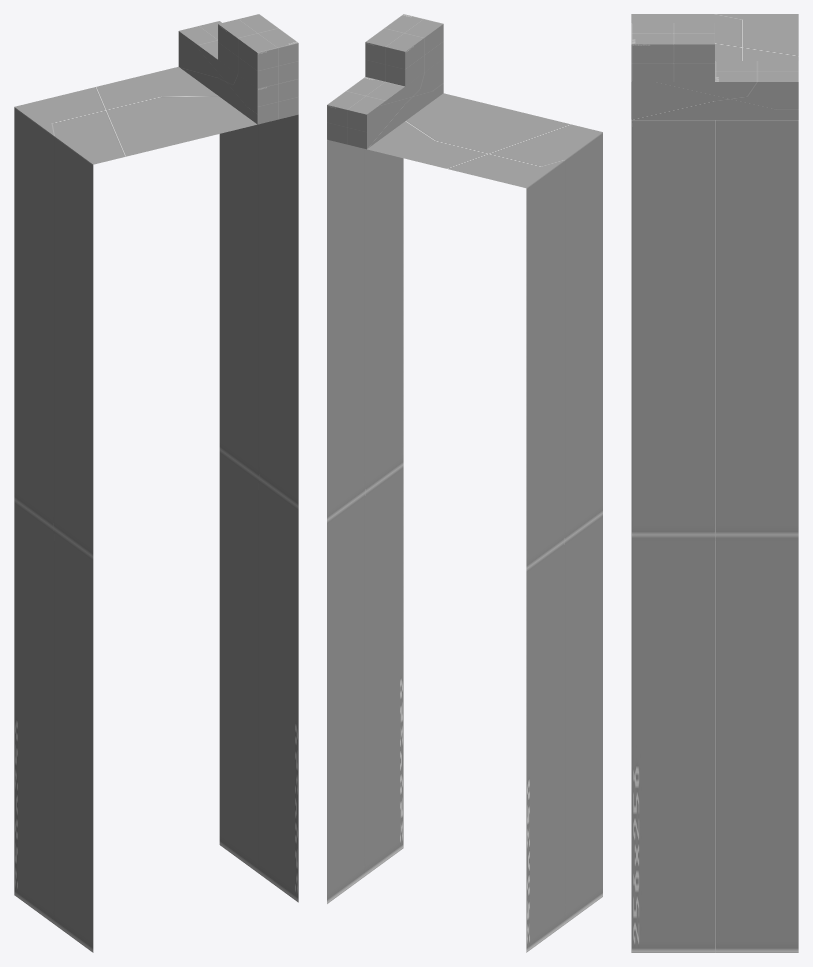
File: wall_segment.glb
3 renders of one model, left to right at view 1: azimuth 30°, elevation 25°; view 2: azimuth 150°, elevation 25°; view 3: azimuth 270°, elevation 25°, orthographic. The views are drawn at different scales.
Parts seen in each view (by area): view 1: Cube; view 2: Cube; view 3: Cube.
Part boxes in pixels (x1,y1,x2,y2): Cube: [14, 14, 298, 952]; Cube: [327, 14, 602, 952]; Cube: [631, 14, 798, 952].
Size of the model in its own units: 6 by 24 by 4.
2 materials, 2 textured.
